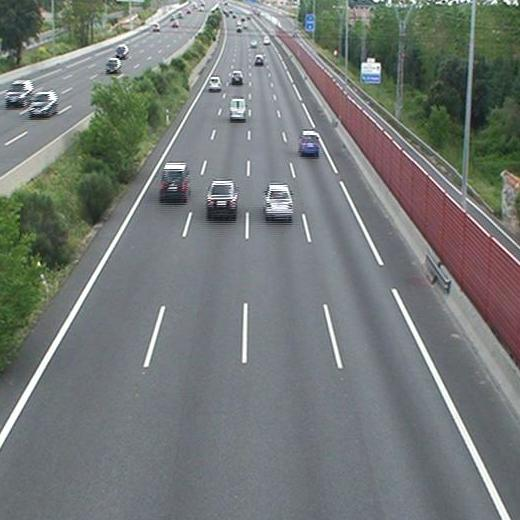car: (207, 181, 236, 216), (161, 164, 187, 198), (265, 185, 292, 216), (298, 132, 320, 153), (208, 76, 221, 90), (231, 71, 242, 82), (254, 55, 263, 65), (249, 38, 258, 48), (263, 35, 271, 45)
van: (229, 99, 246, 121)
